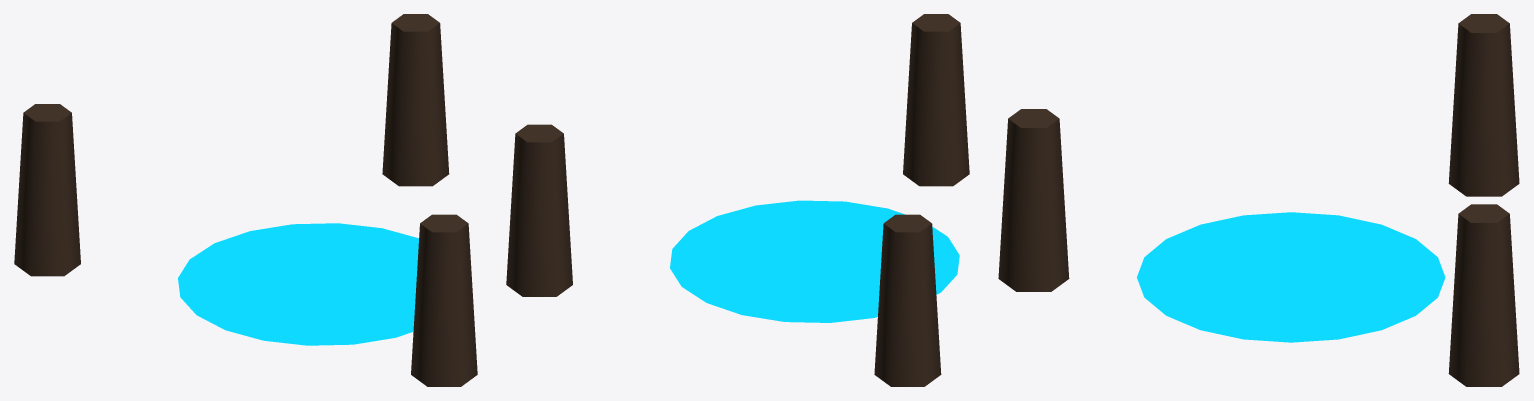
The model's file is tar_02.glb.
The picture shows the model from 3 angles, left to right: view 1: azimuth 30°, elevation 25°; view 2: azimuth 150°, elevation 25°; view 3: azimuth 270°, elevation 25°; orthographic projection. The views are drawn at different scales.
Parts seen in each view (by area): view 1: TAR_02; view 2: TAR_02; view 3: TAR_02.
Boxes of the visible parts, bbox=[...] form: TAR_02: bbox=[14, 14, 477, 386]; TAR_02: bbox=[506, 14, 969, 386]; TAR_02: bbox=[998, 14, 1519, 386].
Size of what is drawn, in the model's own units: 15.91 by 5.5 by 16.2.
